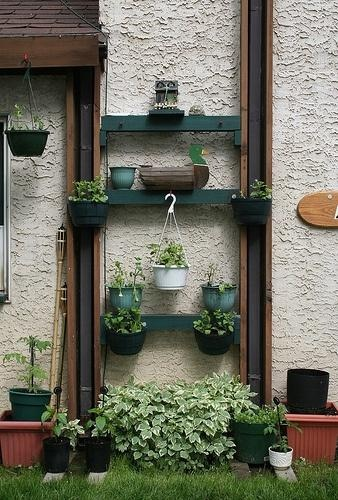pottedplant: (3, 334, 54, 422), (235, 395, 287, 469), (107, 256, 150, 319), (4, 104, 51, 160), (39, 404, 74, 475), (145, 239, 191, 292), (265, 397, 297, 472), (230, 179, 276, 231), (104, 308, 149, 359), (196, 263, 241, 312), (193, 305, 237, 352), (85, 406, 115, 473), (70, 177, 110, 227)
